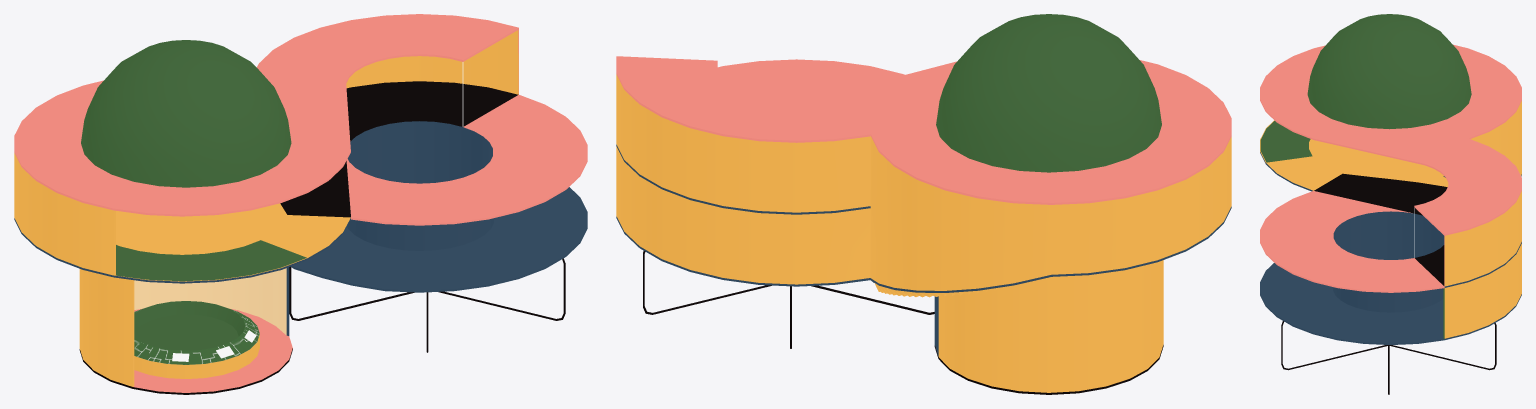
Rendered from 建筑楼 newnewnew.fbx.
3 views of the same model, side by side, from view 1: azimuth 30°, elevation 25°; view 2: azimuth 150°, elevation 25°; view 3: azimuth 270°, elevation 25° (orthographic). The views are drawn at different scales.
Parts seen in each view (by area): view 1: Cylinder_1; view 2: Cylinder_1; view 3: Cylinder_1.
Boxes of the visible parts, x1=… form: Cylinder_1: x1=14, y1=14, x2=587, y2=394; Cylinder_1: x1=616, y1=14, x2=1231, y2=394; Cylinder_1: x1=1260, y1=14, x2=1521, y2=394.
Size of the model in its own units: 2897 by 1570 by 1592.
